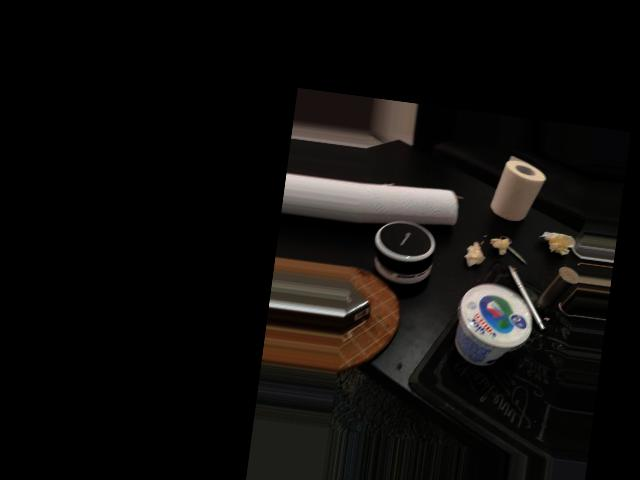cotage: (454, 284, 537, 376)
